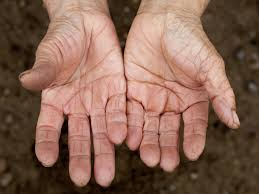palm: (125, 24, 208, 108), (52, 30, 123, 103)
